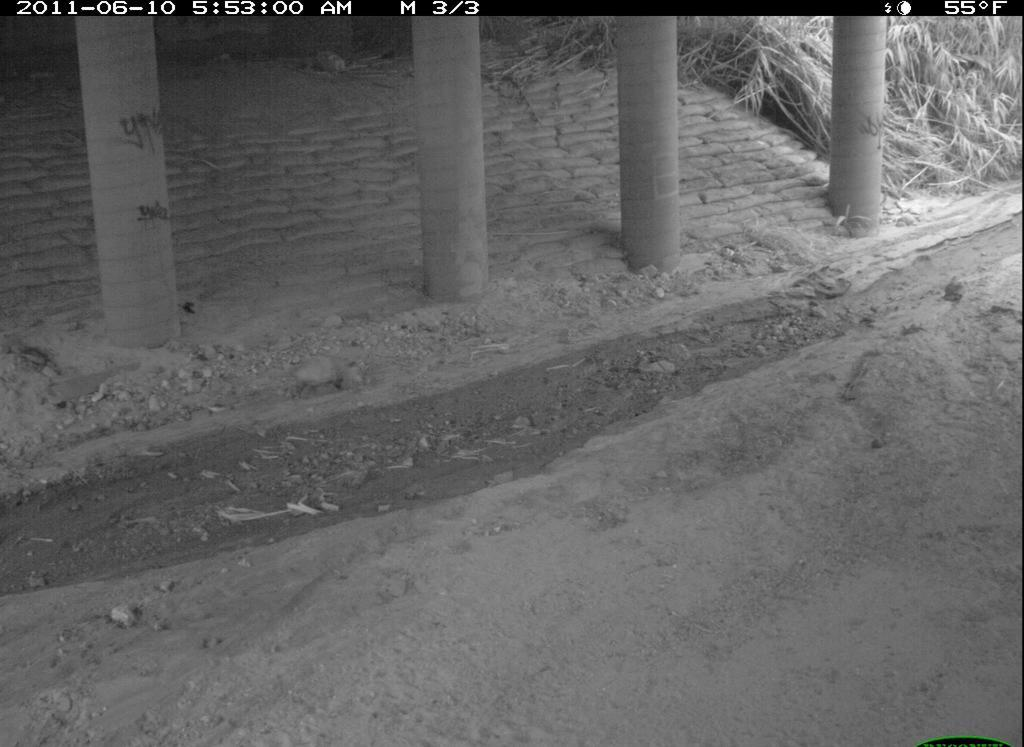opossum: (492, 699, 751, 747)
